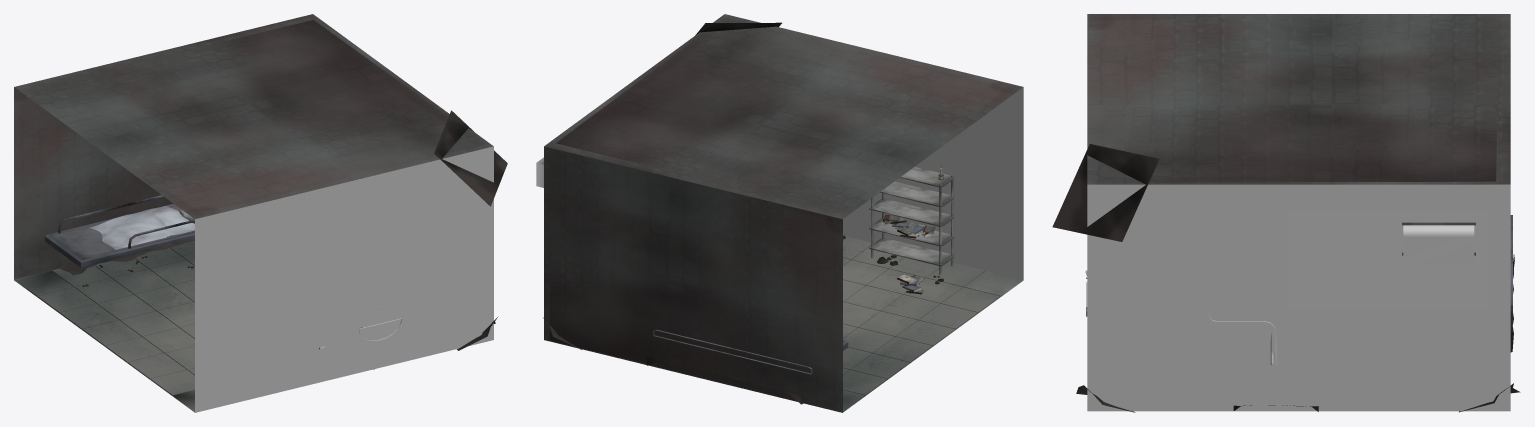
The model's file is room.fbx.
3 views of the same model, side by side, from view 1: azimuth 30°, elevation 25°; view 2: azimuth 150°, elevation 25°; view 3: azimuth 270°, elevation 25° (orthographic). The views are drawn at different scales.
Visible parts, largest first — view 1: Right_Wall, Ceiling, Floor, Left_Wall, Bad, Rocks; view 2: Left_Wall, Ceiling, Floor, Right_Wall, Shelf, Candles, Rocks, Bad; view 3: Wall, Ceiling, Rocks.
Part boxes in pixels (bbox=[...]): Right_Wall: bbox=[195, 146, 493, 412]; Ceiling: bbox=[14, 14, 493, 219]; Floor: bbox=[14, 240, 194, 412]; Left_Wall: bbox=[14, 87, 173, 280]; Bad: bbox=[44, 195, 194, 267]; Rocks: bbox=[59, 110, 507, 369]; Left_Wall: bbox=[544, 146, 842, 412]; Ceiling: bbox=[544, 14, 1022, 219]; Floor: bbox=[843, 236, 1022, 412]; Right_Wall: bbox=[843, 87, 1023, 280]; Shelf: bbox=[869, 167, 954, 274]; Candles: bbox=[883, 166, 943, 294]; Rocks: bbox=[543, 22, 943, 404]; Bad: bbox=[653, 329, 848, 374]; Wall: bbox=[1087, 184, 1510, 411]; Ceiling: bbox=[1087, 14, 1510, 184]; Rocks: bbox=[1052, 144, 1520, 412].
Bounding box in the file's own units: 2303 × 1429 × 2434.
